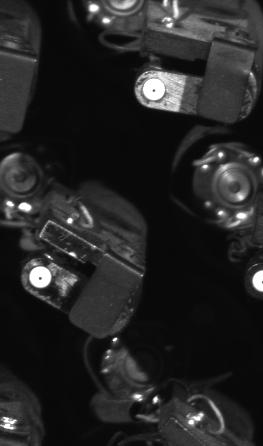fiber: (25, 261, 57, 293), (139, 75, 167, 106), (248, 262, 263, 297)
